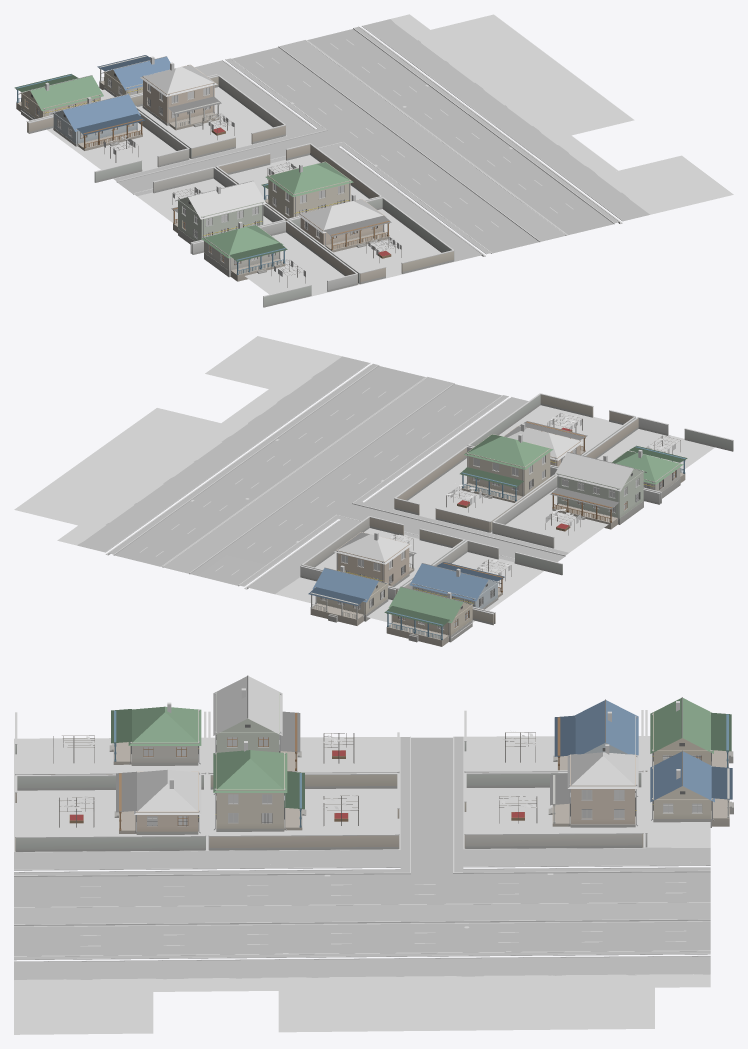
Rendered from chunk_2_5.glb.
3 views of the same model, one above another, from view 1: azimuth 30°, elevation 25°; view 2: azimuth 150°, elevation 25°; view 3: azimuth 270°, elevation 25° (orthographic). The views are drawn at different scales.
Visible parts, largest first — view 1: base, detail; view 2: base, detail; view 3: base, detail.
Part boxes in pixels (x1,y1,x2,y2): base: [14, 14, 733, 307]; detail: [16, 55, 401, 287]; base: [14, 336, 733, 646]; detail: [310, 413, 685, 640]; base: [14, 676, 733, 1034]; detail: [53, 675, 729, 833].
Size of what is drawn, in the model's own units: 104 by 11.38 by 103.
